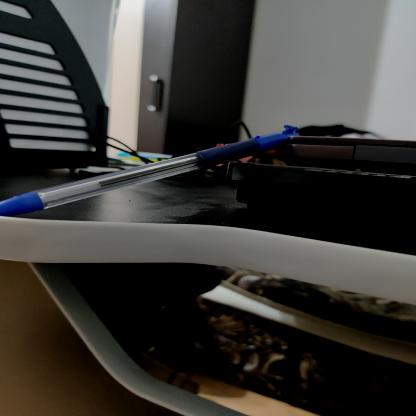Pen: (0, 120, 326, 255)
